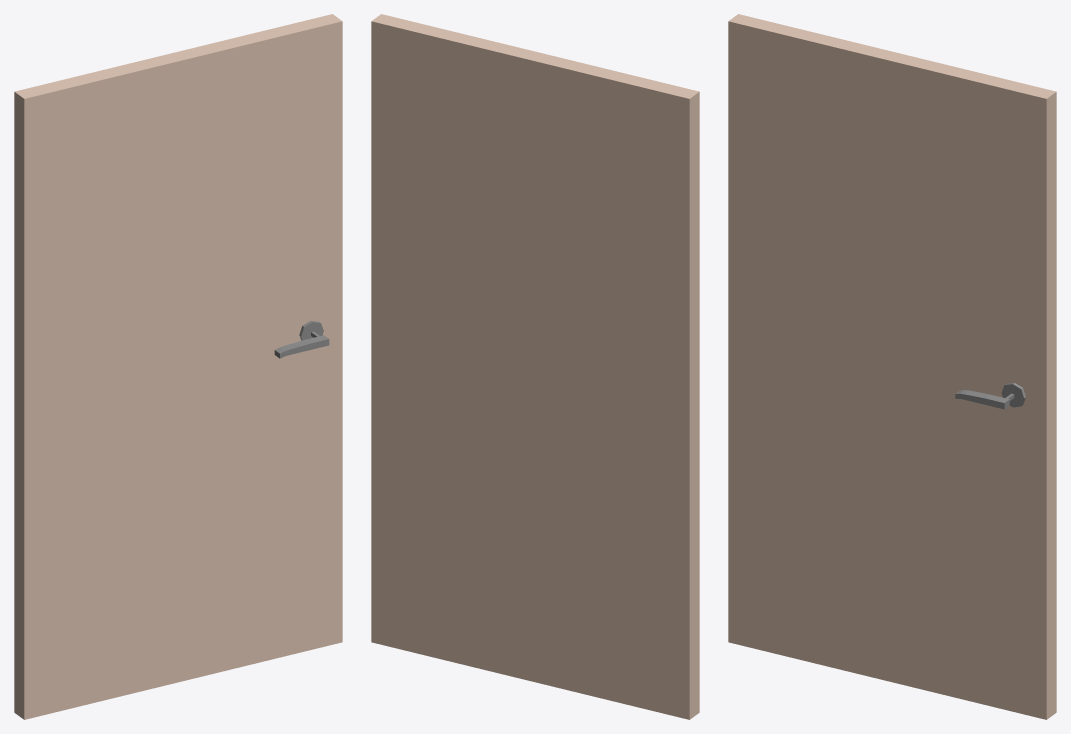
Rendered from Door.fbx.
3 renders of one model, left to right at view 1: azimuth 30°, elevation 25°; view 2: azimuth 150°, elevation 25°; view 3: azimuth 330°, elevation 25°, orthographic.
Parts seen in each view (by area): view 1: Door; view 2: Door; view 3: Door.
Part boxes in pixels (x1=…): Door: x1=14, y1=14, x2=342, y2=719; Door: x1=371, y1=14, x2=699, y2=719; Door: x1=728, y1=14, x2=1056, y2=719.
Size of the model in its own units: 1.26 by 2.34 by 0.1666.
